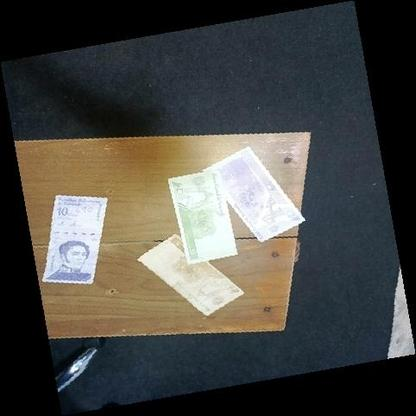fifty-back-vef: (167, 170, 237, 265)
